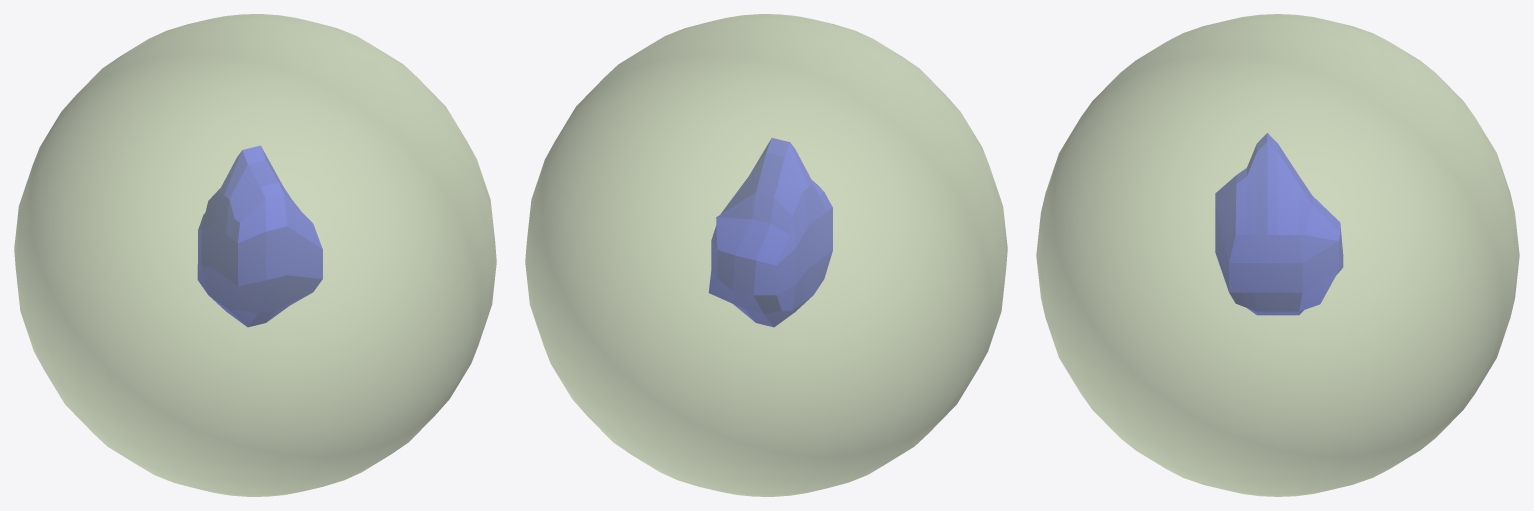
Rendered from BlueEssenceBuff.fbx.
3 views of the same model, side by side, from view 1: azimuth 30°, elevation 25°; view 2: azimuth 150°, elevation 25°; view 3: azimuth 270°, elevation 25° (orthographic).
Parts seen in each view (by area): view 1: Sphere.002, Cube.006; view 2: Sphere.002, Cube.006; view 3: Sphere.002, Cube.006.
Boxes of the visible parts, box(x1,y1,x2,y2) form: Sphere.002: box(14, 14, 496, 496); Cube.006: box(197, 145, 322, 327); Sphere.002: box(525, 14, 1007, 496); Cube.006: box(708, 138, 832, 327); Sphere.002: box(1036, 14, 1519, 496); Cube.006: box(1215, 133, 1343, 315).
Size of the model in its own units: 1142 by 1142 by 1142.
